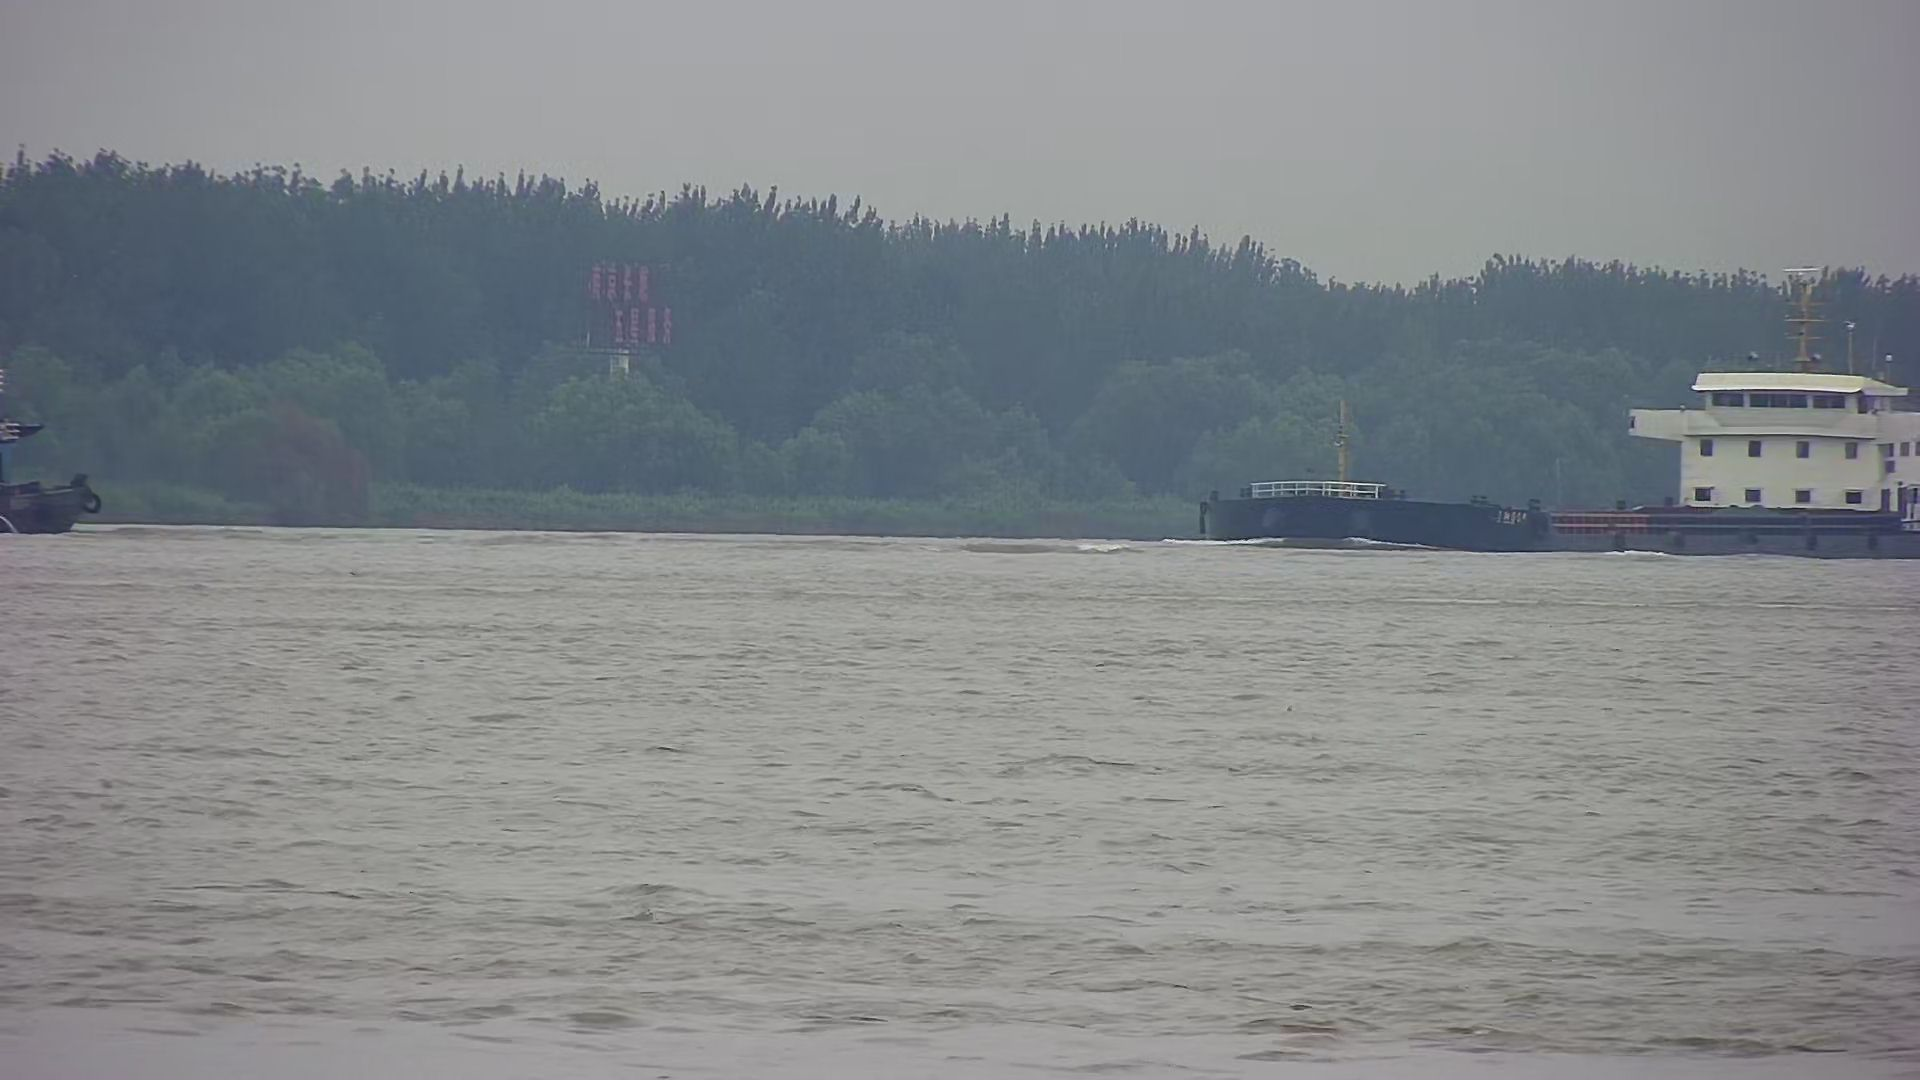ship: (1195, 262, 1920, 562)
